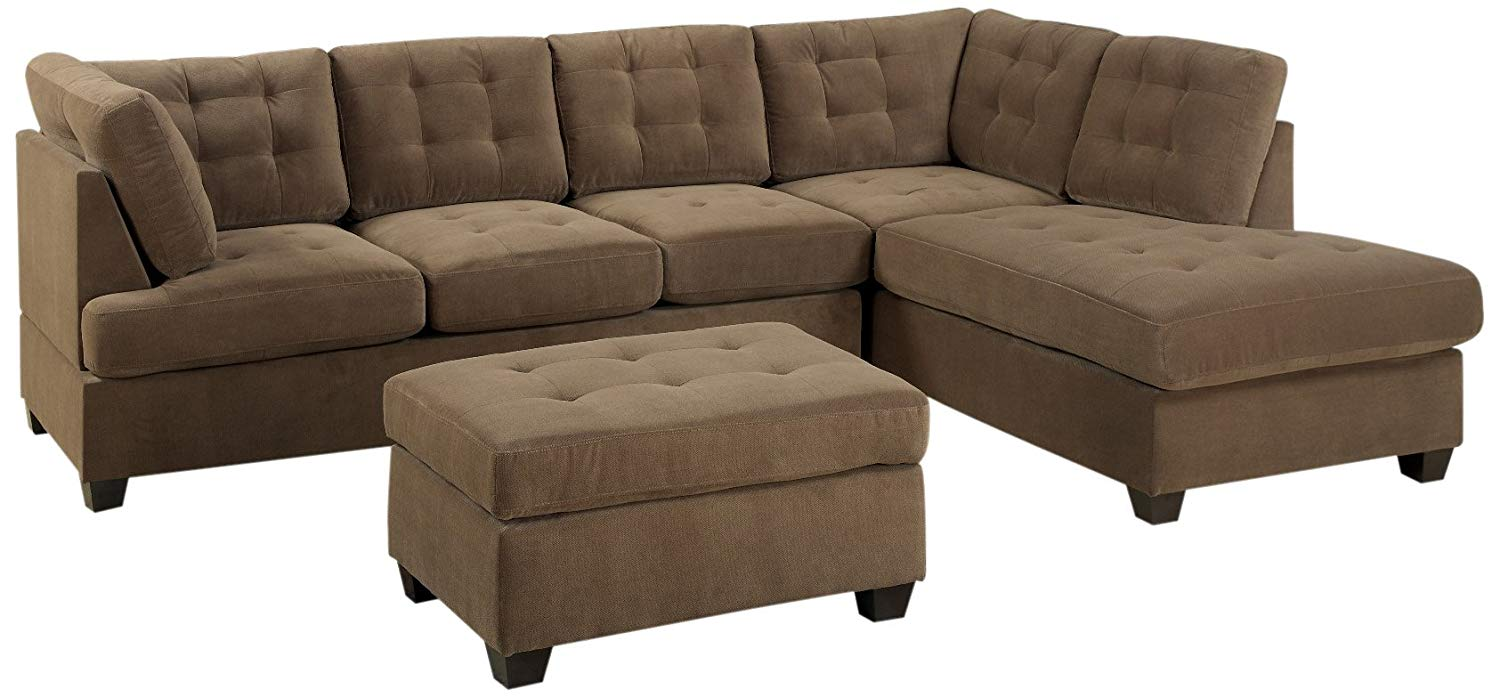chairs: (11, 2, 1485, 529), (363, 323, 947, 694)
